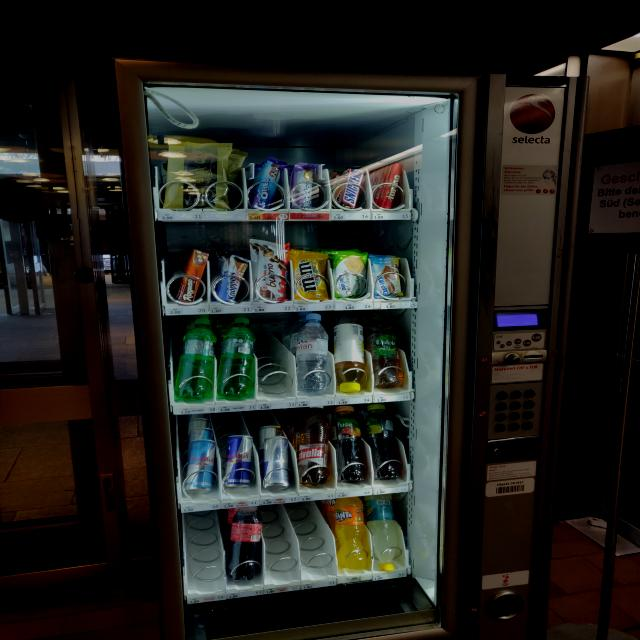bueno___43__4008400320328: (257, 238, 292, 302)
coke__flasche_50__54491472: (226, 507, 268, 581)
evian___50__3068320353500: (292, 313, 328, 395)
fanta___50__40822938: (335, 495, 370, 572)
fuse_lemon__50__5449000235947: (362, 403, 401, 480)
fuse_peach__50__5449000236623: (332, 405, 364, 489)
knoppers_riegel____4035800488808: (214, 252, 250, 304)
redbull___33__90162909: (263, 431, 293, 494), (221, 435, 254, 491)
redbull_light__33__90162800: (184, 438, 218, 494)
snickers___50__5000159461122: (337, 160, 369, 208)
valser_classic__50__76404160: (170, 316, 217, 401), (217, 315, 257, 397)
